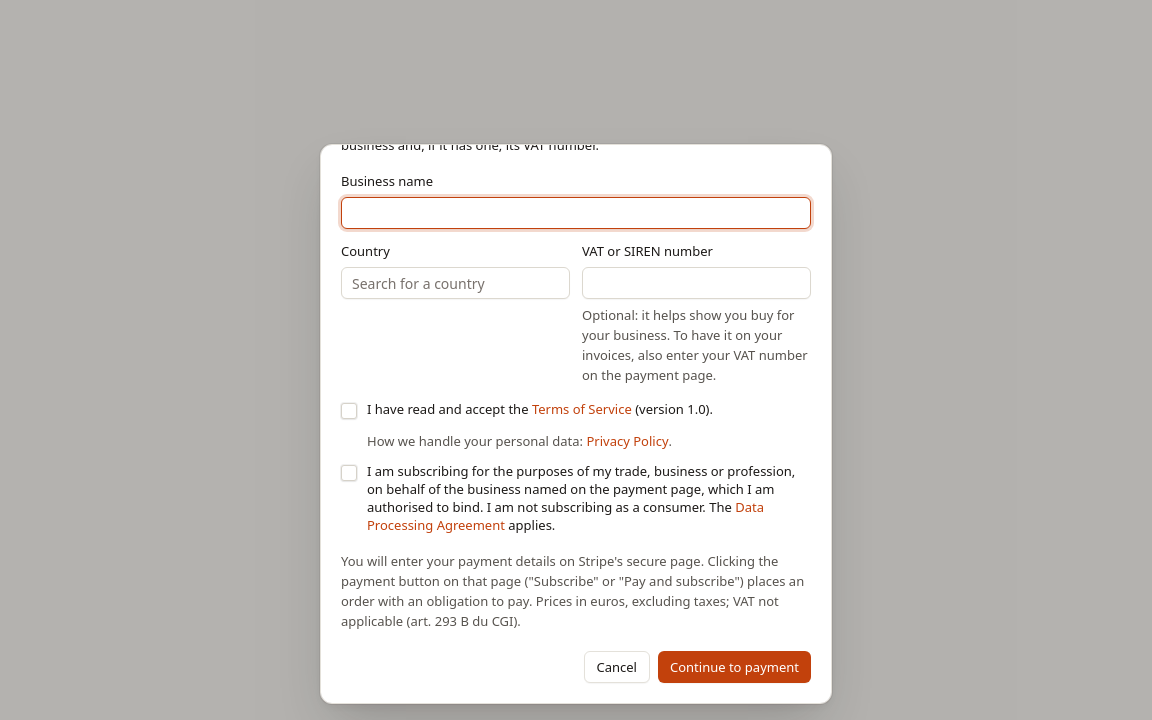
Test case: CheckoutDialog, businesses only (consumer sales off) › sends nothing until the Terms, the attestation, the name and the country are given
(page scrolled)
Click the button "Continue to payment".
click(734, 666)  # box [658, 650, 811, 682]
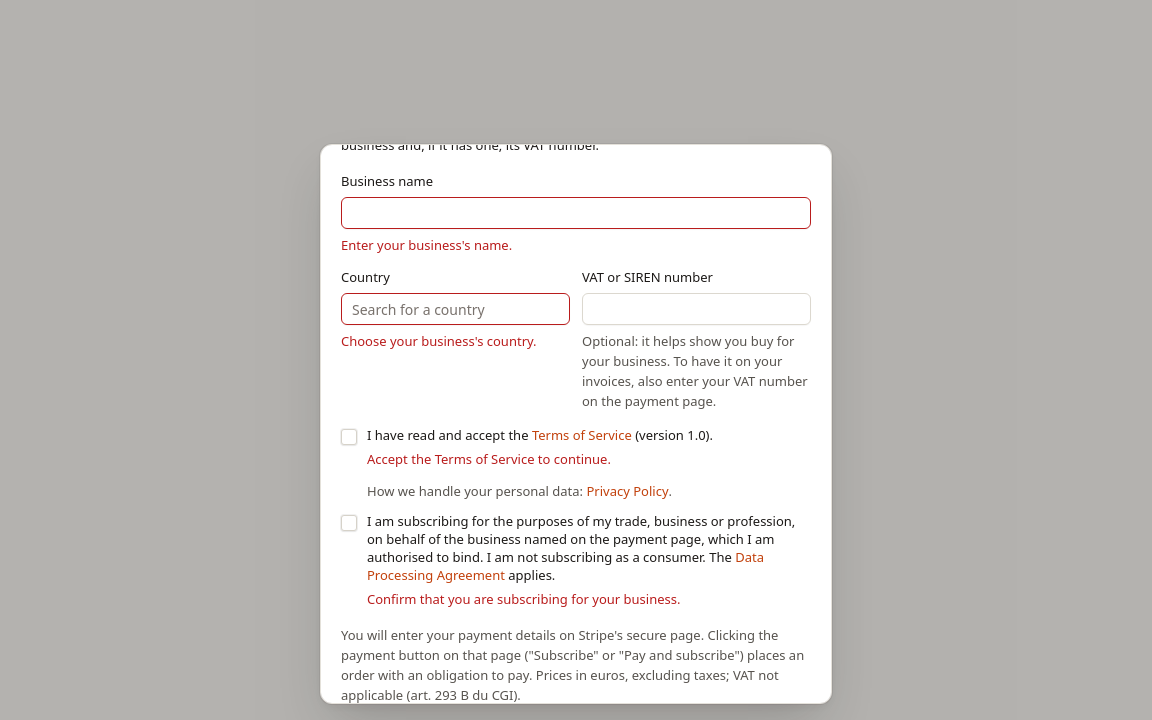
Expected: the text "Accept the Terms of Service to continue." is shown, [367, 450, 611, 468]
Expected: the text "Confirm that you are subscribing for your business." is shown, [367, 590, 680, 608]
Expected: the text "Enter your business's name." is shown, [341, 236, 512, 254]
